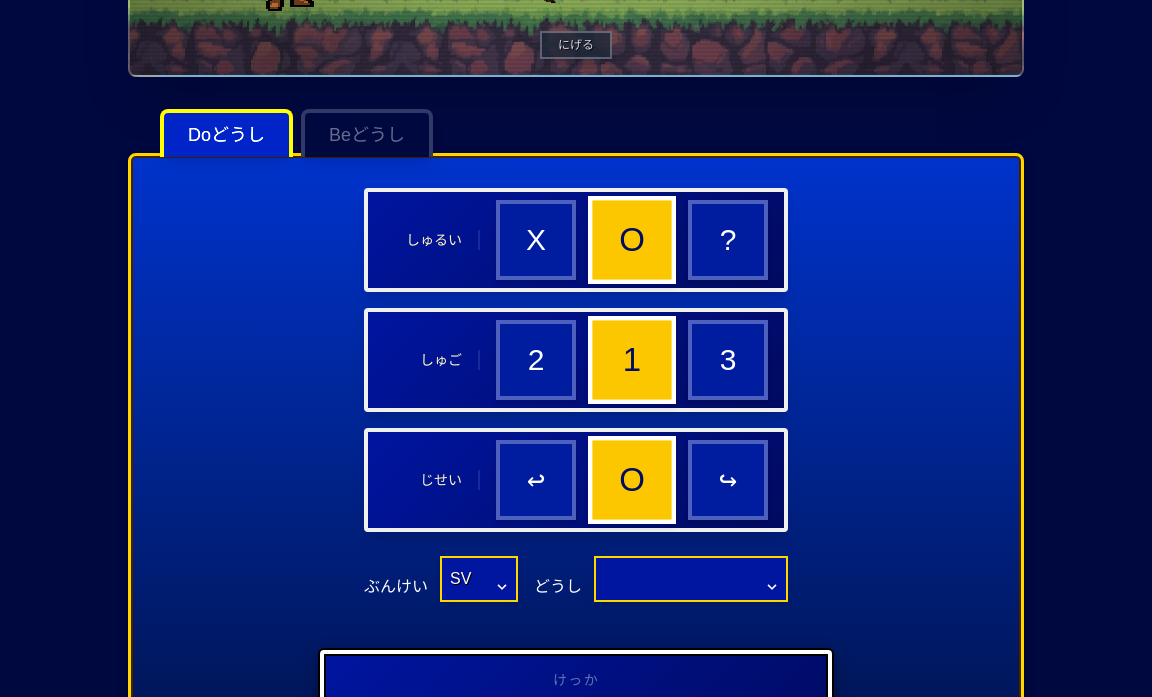
Scenario: PracticeContent › updates generated sentence when state changes
(page scrolled)
Note: Find the subject '1' button and click it to rotate to plural 'we'
Click the text "1": (632, 360) [588,316,676,404]
(page scrolled)
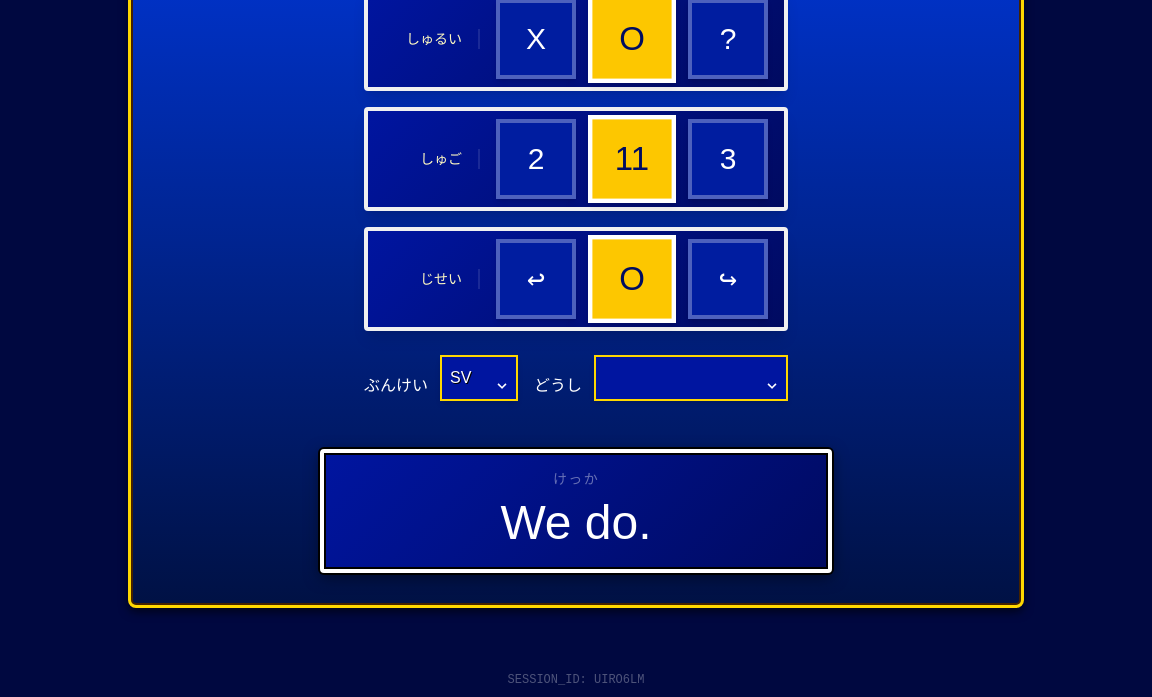
Expected: the text "We do." is shown, [500,496,652,549]
